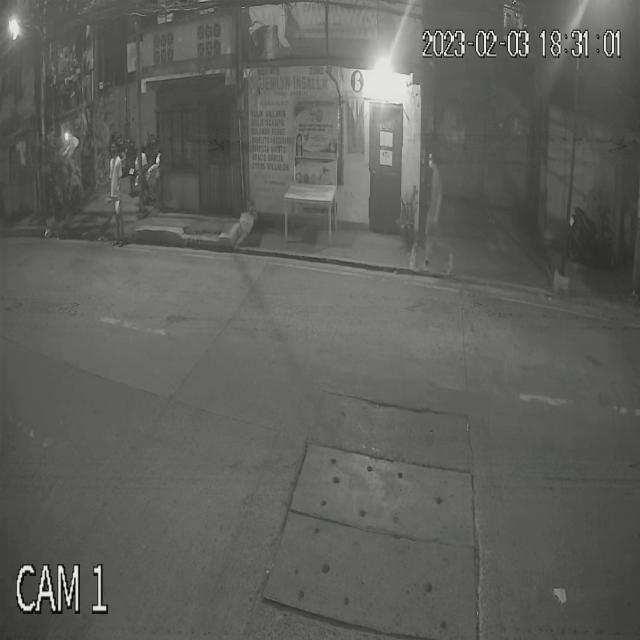human: (108, 139, 125, 247)
